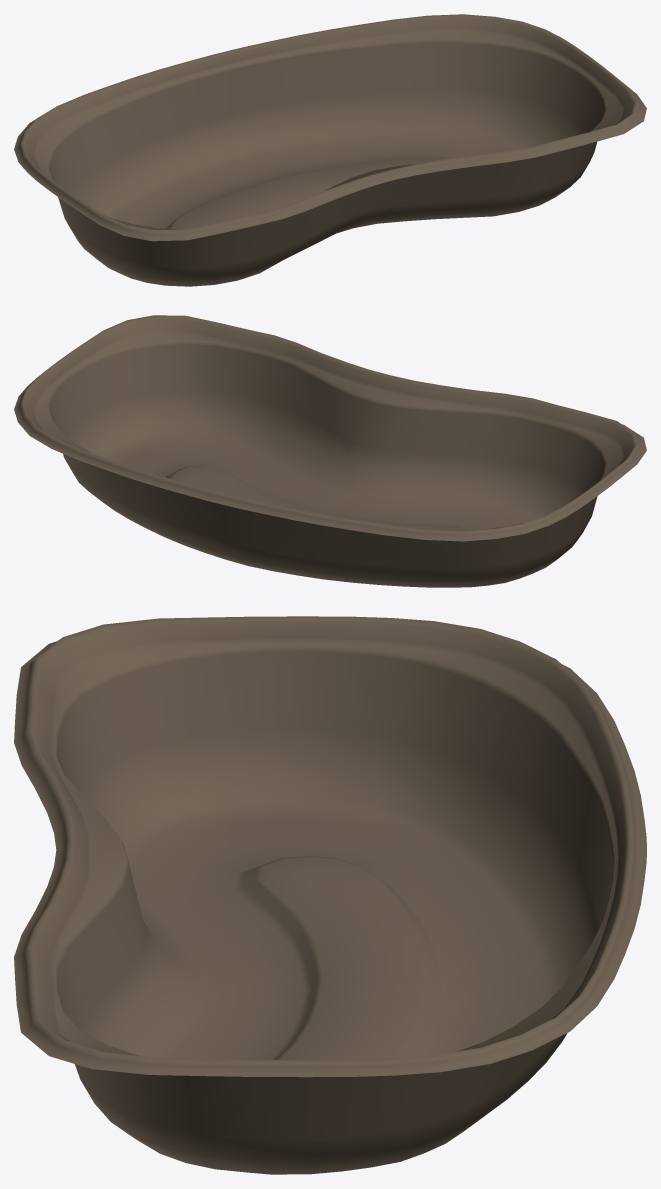
File: emesis_basin.fbx
3 views of the same model, one above another, from view 1: azimuth 30°, elevation 25°; view 2: azimuth 150°, elevation 25°; view 3: azimuth 270°, elevation 25° (orthographic). The views are drawn at different scales.
Visible parts, largest first — view 1: emesis-basin; view 2: emesis-basin; view 3: emesis-basin.
Part boxes in pixels (bbox=[...]): emesis-basin: bbox=[14, 14, 646, 286]; emesis-basin: bbox=[14, 315, 646, 587]; emesis-basin: bbox=[14, 616, 646, 1174].
Size of the model in its own units: 25.49 by 4 by 15.
